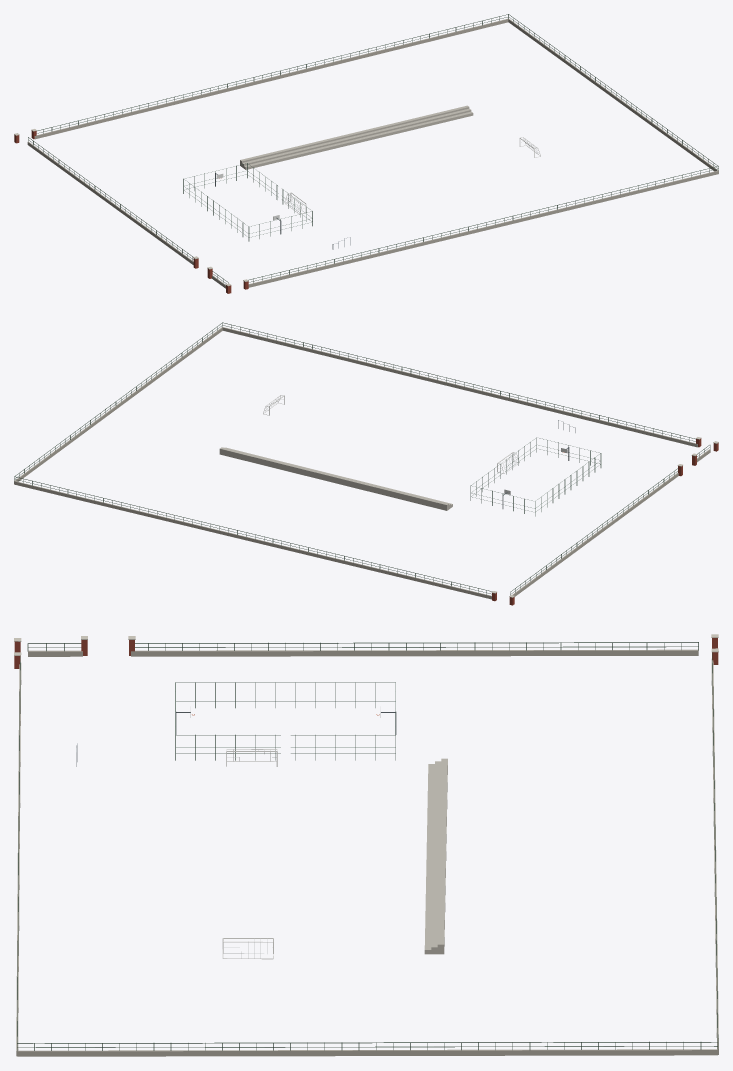
3 views of the same model, one above another, from view 1: azimuth 30°, elevation 25°; view 2: azimuth 150°, elevation 25°; view 3: azimuth 270°, elevation 25° (orthographic). The views are drawn at different scales.
Parts seen in each view (by area): view 1: site-wall-concrete, site-fence, site-stand-concrete, site-court-fence; view 2: site-wall-concrete, site-fence, site-stand-concrete, site-court-fence; view 3: site-wall-concrete, site-fence, site-stand-concrete, site-court-fence.
Boxes of the visible parts, bbox=[...] form: site-wall-concrete: bbox=[27, 18, 718, 288]; site-fence: bbox=[28, 14, 718, 283]; site-stand-concrete: bbox=[240, 105, 473, 169]; site-court-fence: bbox=[183, 163, 312, 241]; site-wall-concrete: bbox=[14, 327, 710, 599]; site-fence: bbox=[14, 322, 710, 595]; site-stand-concrete: bbox=[219, 447, 452, 510]; site-court-fence: bbox=[470, 437, 601, 516]; site-wall-concrete: bbox=[16, 649, 718, 1056]; site-fence: bbox=[17, 642, 718, 1050]; site-stand-concrete: bbox=[424, 758, 447, 954]; site-court-fence: bbox=[175, 682, 395, 760].
Size of the model in its own units: 140 by 4.3 by 102.
